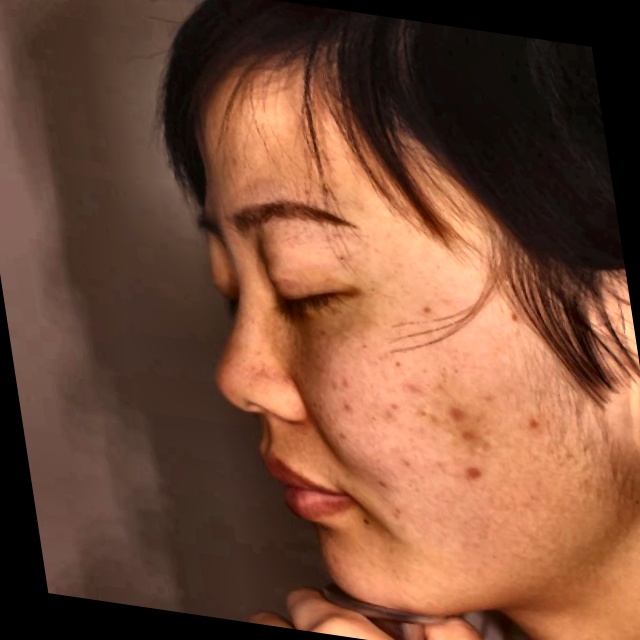comedone: (447, 395, 496, 450), (453, 462, 496, 496), (524, 410, 551, 437)
